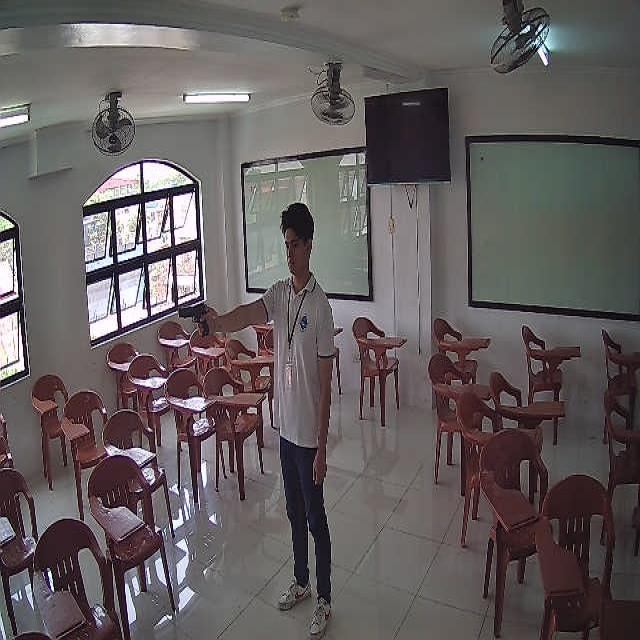pistol: (178, 307, 208, 337)
